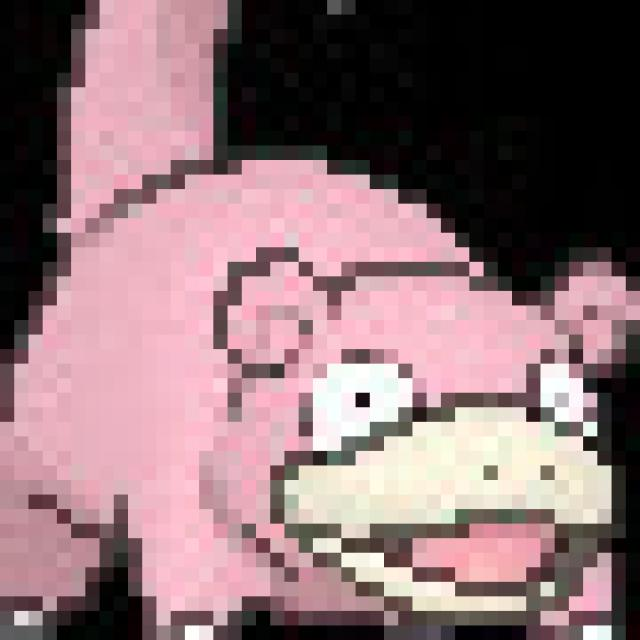Slowpoke: (5, 125, 640, 640)
